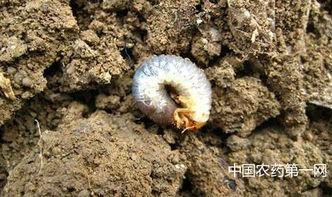grub: (130, 54, 212, 132)
